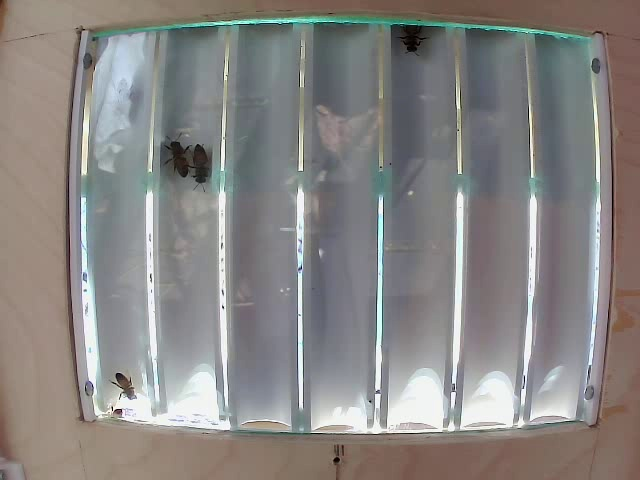bee: (160, 132, 194, 190), (190, 143, 216, 205), (392, 7, 418, 60)
